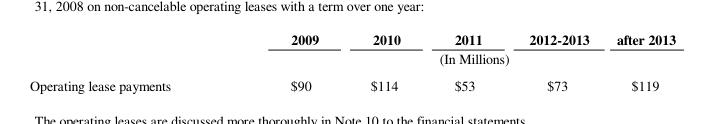table: (29, 29, 675, 93)
table column: (29, 29, 229, 93), (229, 29, 343, 93), (505, 29, 602, 93), (343, 29, 426, 93), (426, 29, 505, 93), (602, 29, 675, 93)
table column header: (29, 29, 675, 70)
table row: (29, 70, 675, 93), (29, 48, 675, 70), (29, 29, 675, 48)
table spanning cell: (229, 48, 675, 70)
